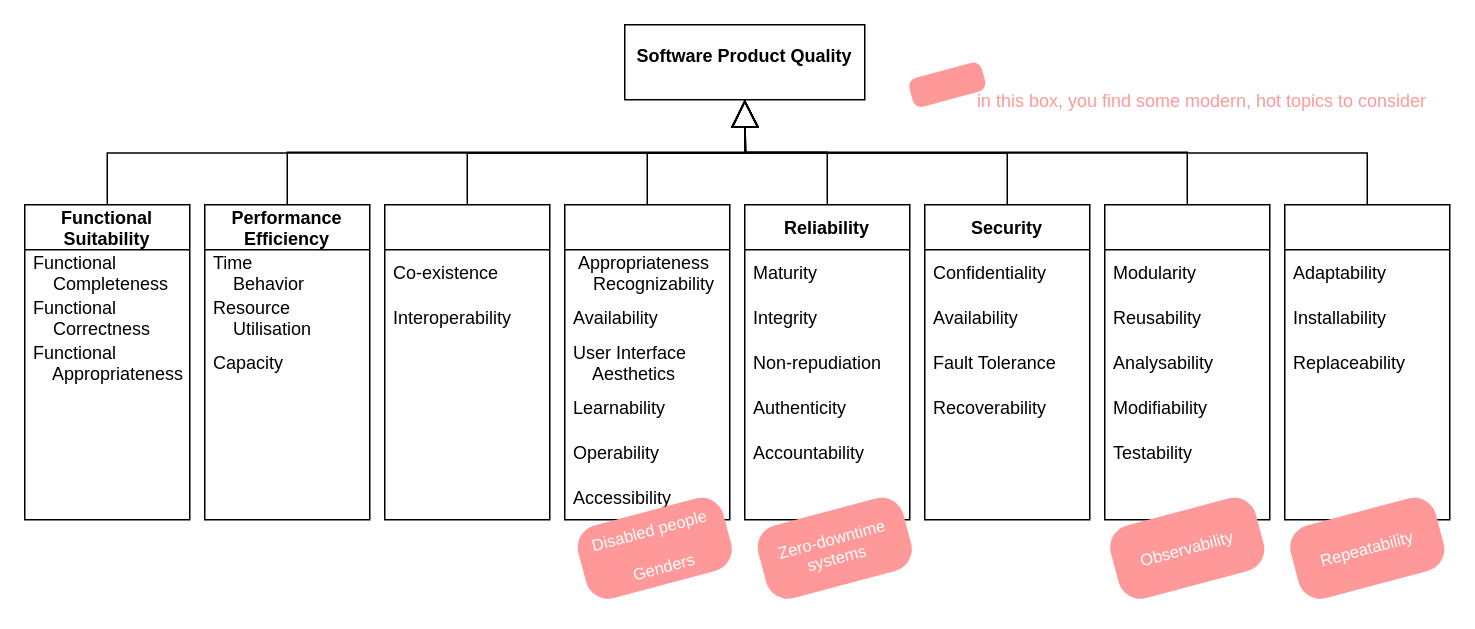
This 1475x629 diagram has some shape labels left out. The shapes that lost their labels are listed below. From the top down, each one's box as (x1, y1, x2, y2) in pixels, then its label:
(383, 203, 550, 520): Compatibility
(563, 203, 730, 520): Usability
(1103, 203, 1270, 520): Maintainability
(1283, 203, 1450, 520): Portability
